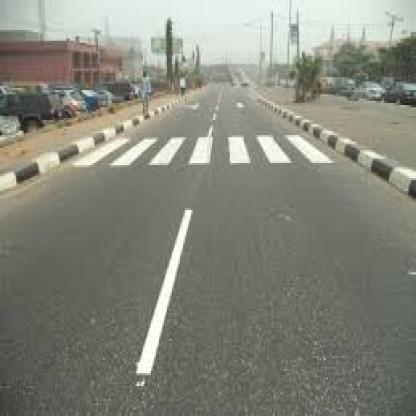car: (355, 77, 385, 109)
